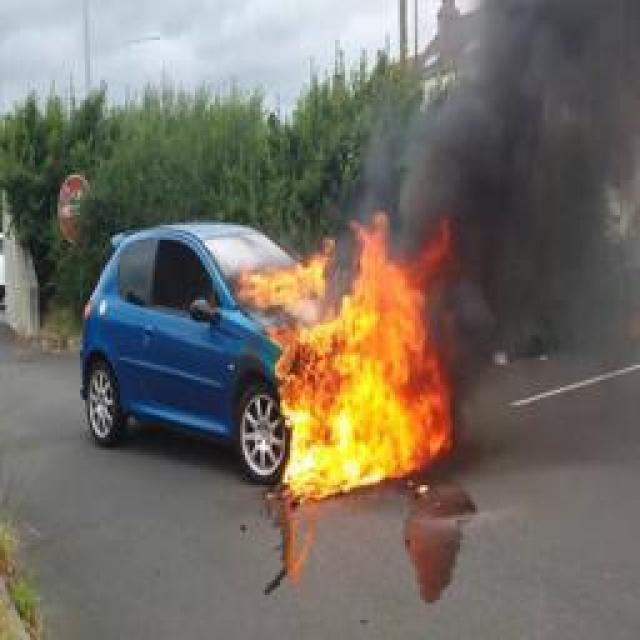Fire: (268, 208, 462, 498), (238, 234, 336, 306)
